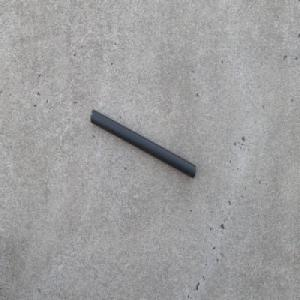LuggagePart: (89, 108, 196, 179)
